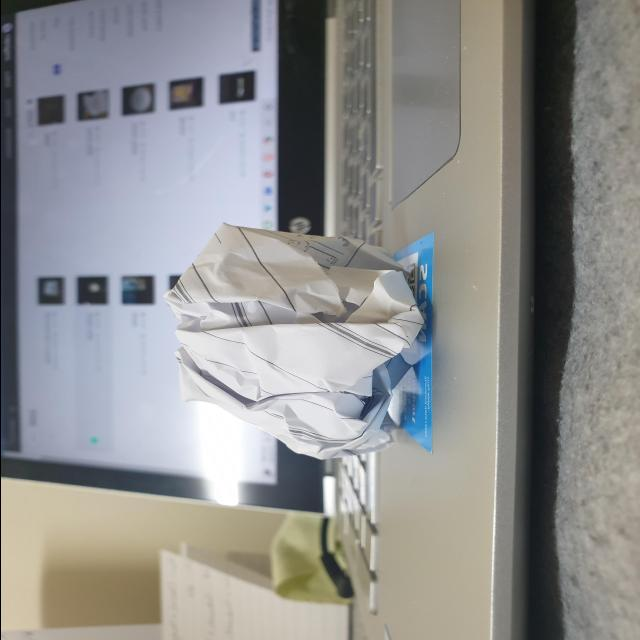kertas: (143, 198, 450, 471)
